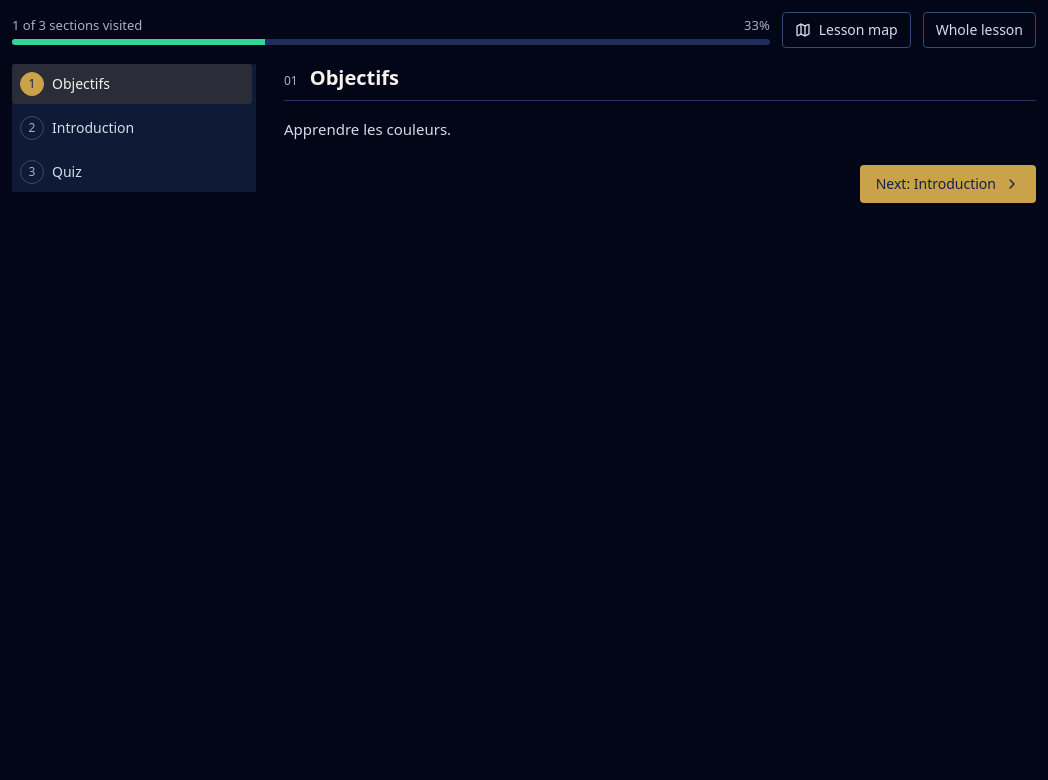
Test case: LessonView: one section at a time › "Whole lesson" shows every section and is remembered
The width and height of the screenshot is (1048, 780).
Click the button "Whole lesson". click: (979, 30)
box: [923, 12, 1036, 48]
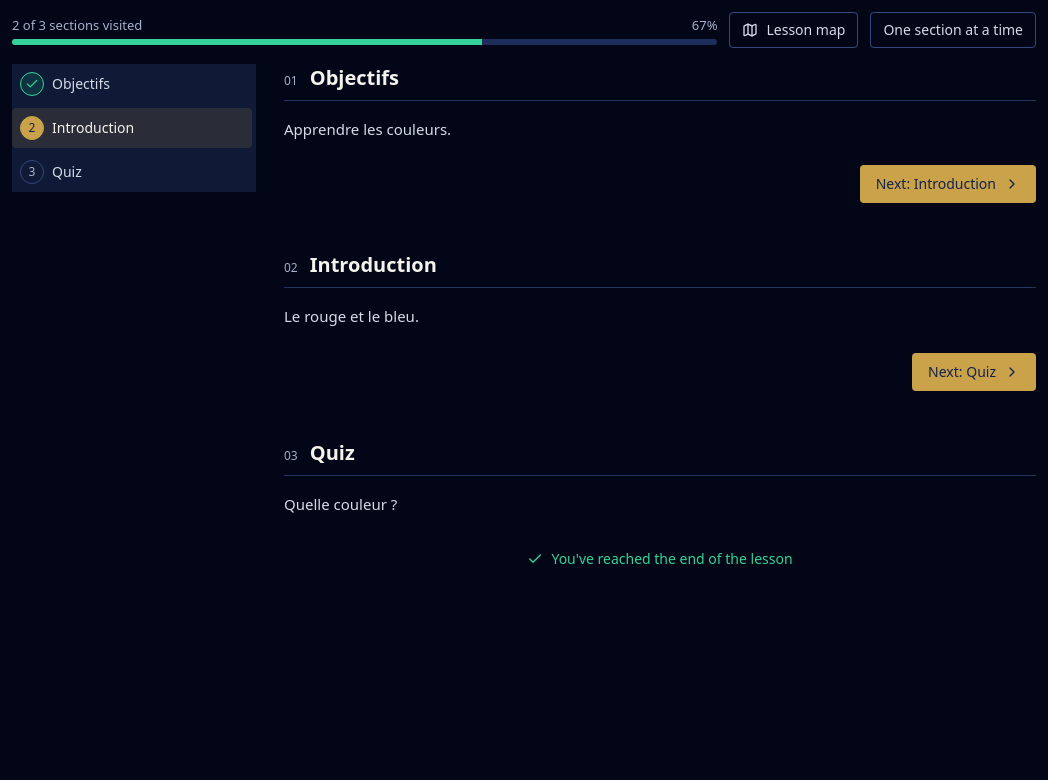
Now the text "Le rouge et le bleu." is shown, box [284, 306, 419, 326]
Now the text "Quelle couleur ?" is shown, box [284, 494, 397, 514]
Now the button "One section at a time" is shown, box [870, 12, 1036, 48]
